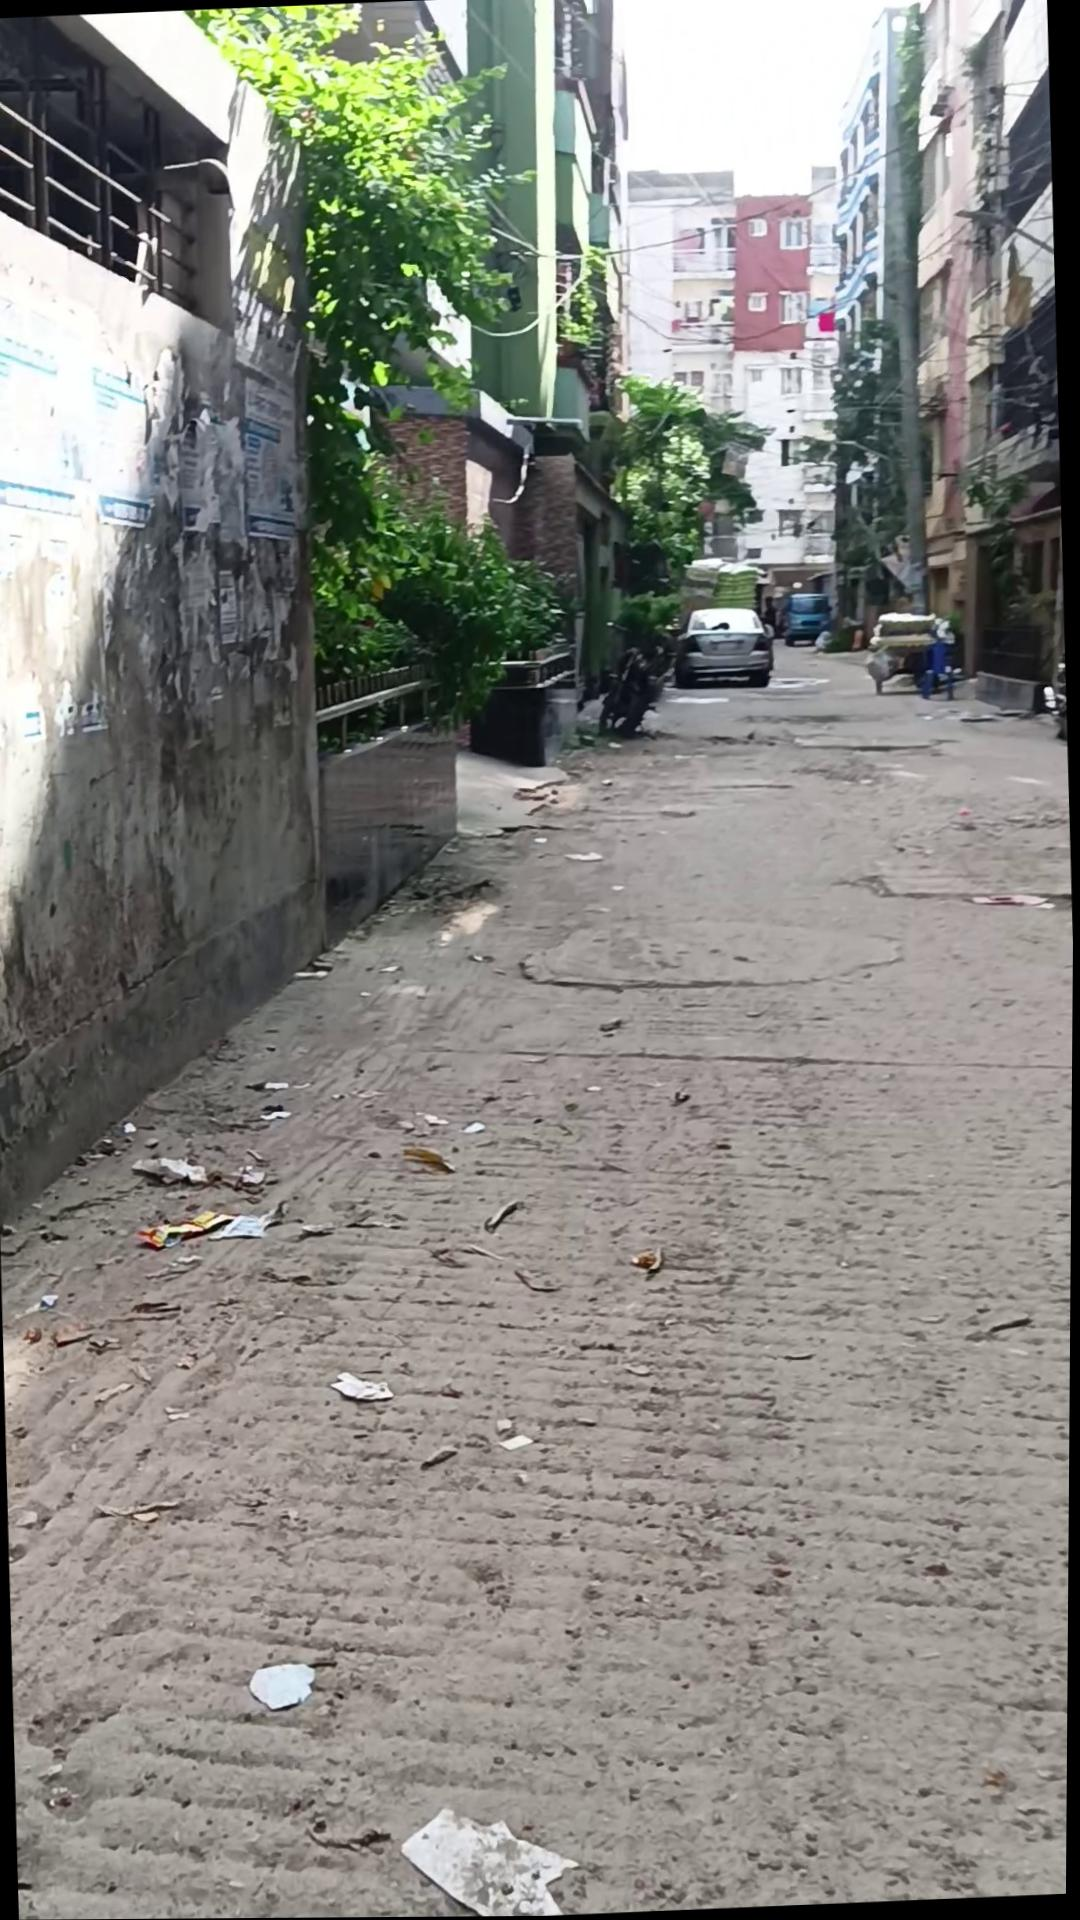Car: (670, 605, 775, 692), (779, 592, 833, 647)
Garbage: (465, 651, 576, 770)
Light-pole: (592, 616, 675, 740)
Motorcycle: (862, 611, 957, 702)
Obstacle: (870, 8, 942, 620)
Tree: (0, 112, 434, 1228)
